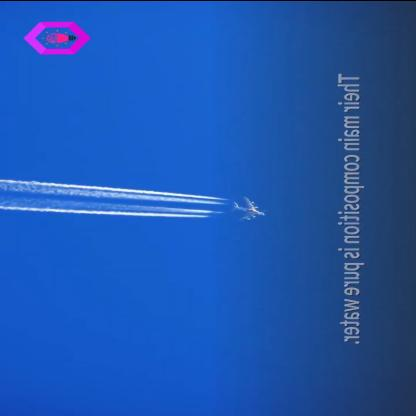plane: (228, 194, 268, 228)
